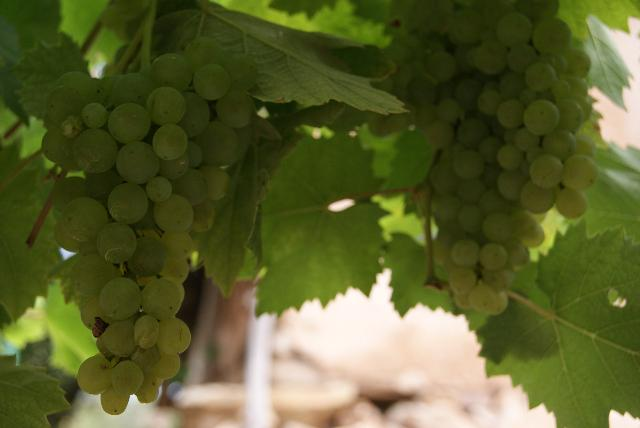grapes: (41, 40, 258, 411), (395, 0, 599, 316)
